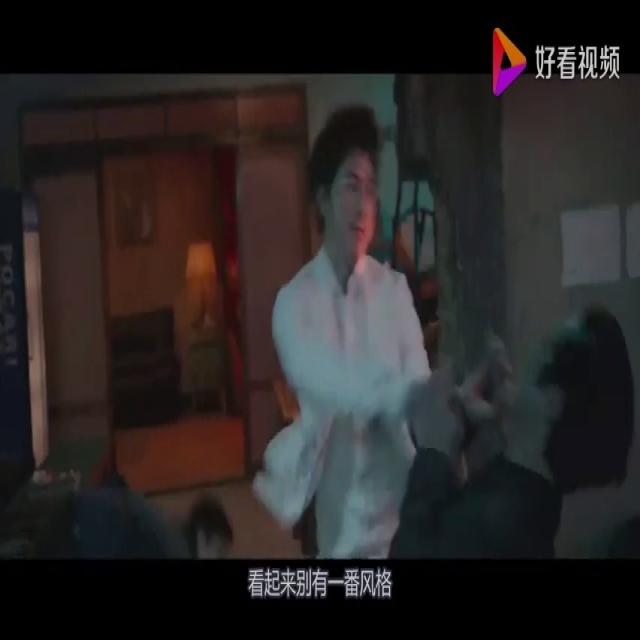fight: (232, 76, 639, 565)
